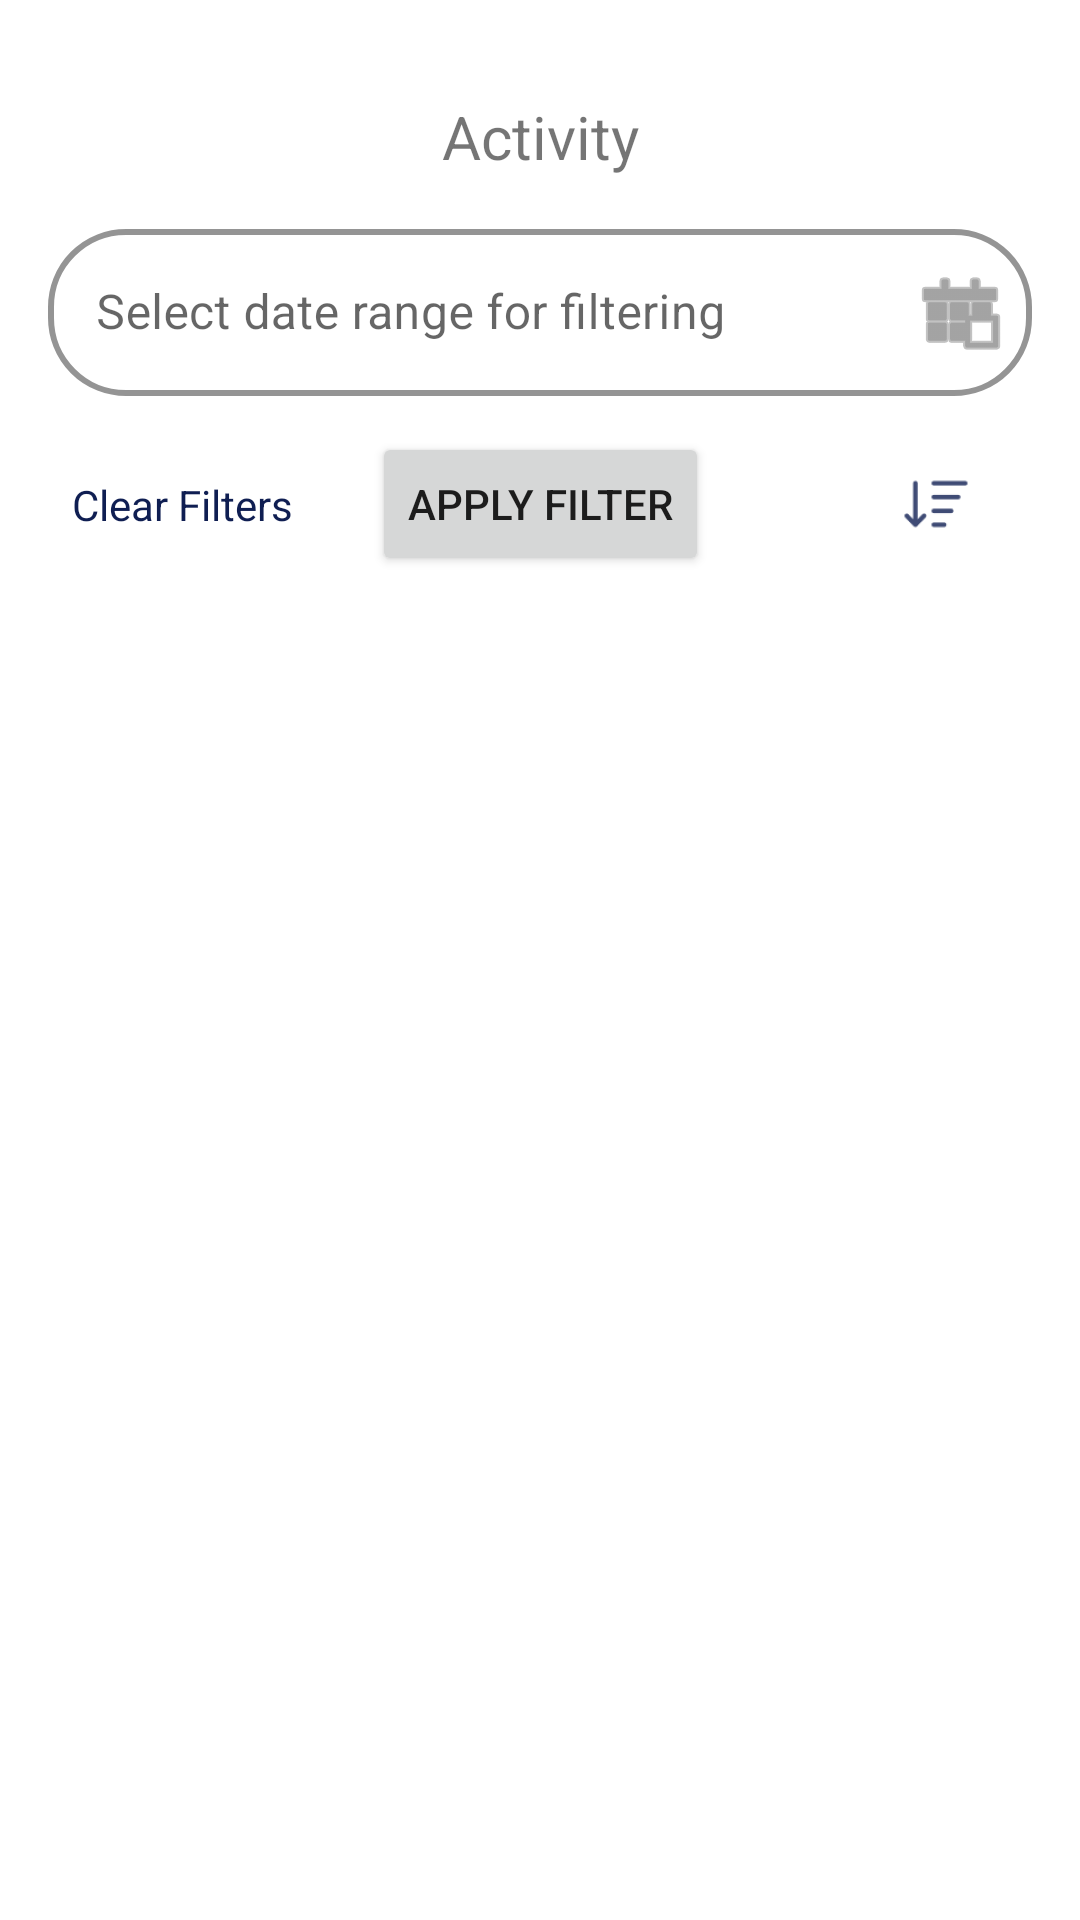

Named icons in this screenshot (1080 × 1920) and their centers, (x=x, y=y):
Sort: (x=936, y=504)
